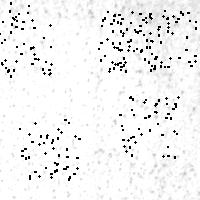pitted_surface: (1, 1, 199, 200), (19, 119, 78, 178), (119, 96, 177, 156), (98, 11, 154, 70), (104, 11, 160, 69), (113, 10, 167, 66), (0, 16, 50, 75), (166, 11, 200, 66), (0, 0, 33, 31)
